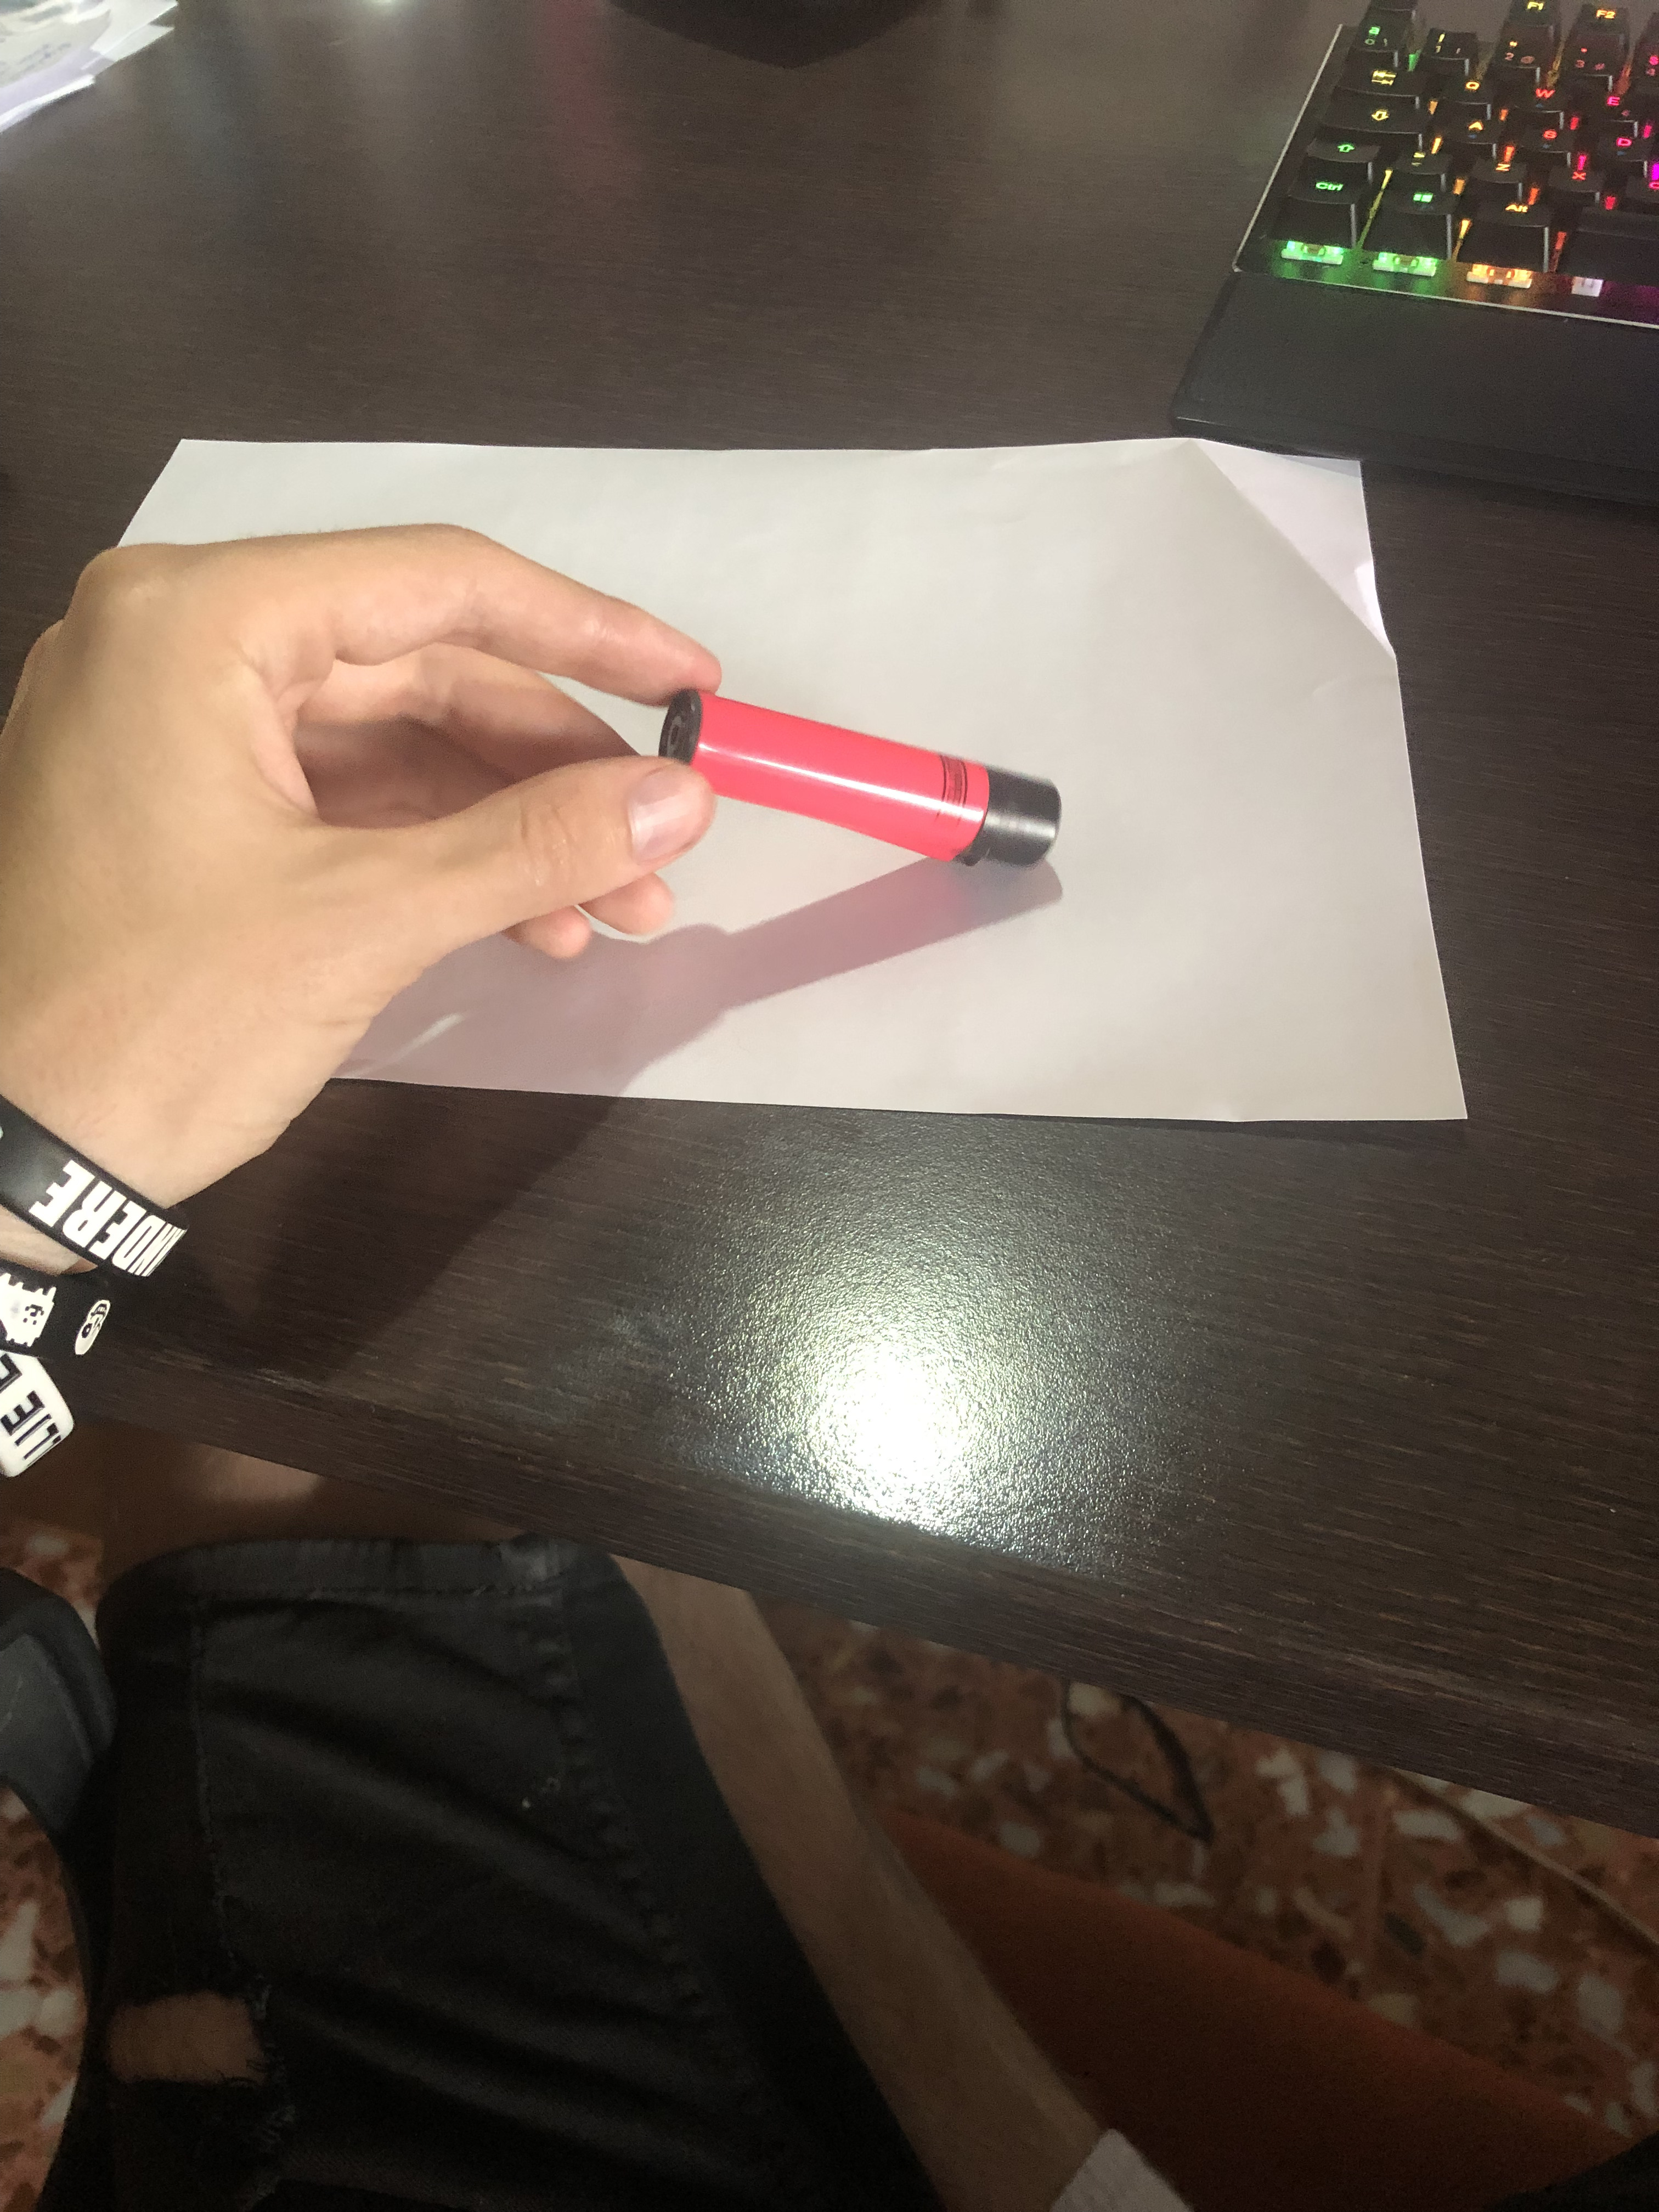Mechero: (648, 683, 1087, 900)
